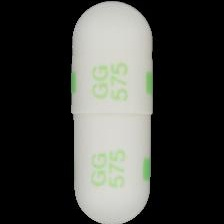61919-099: (0, 0, 224, 224)
